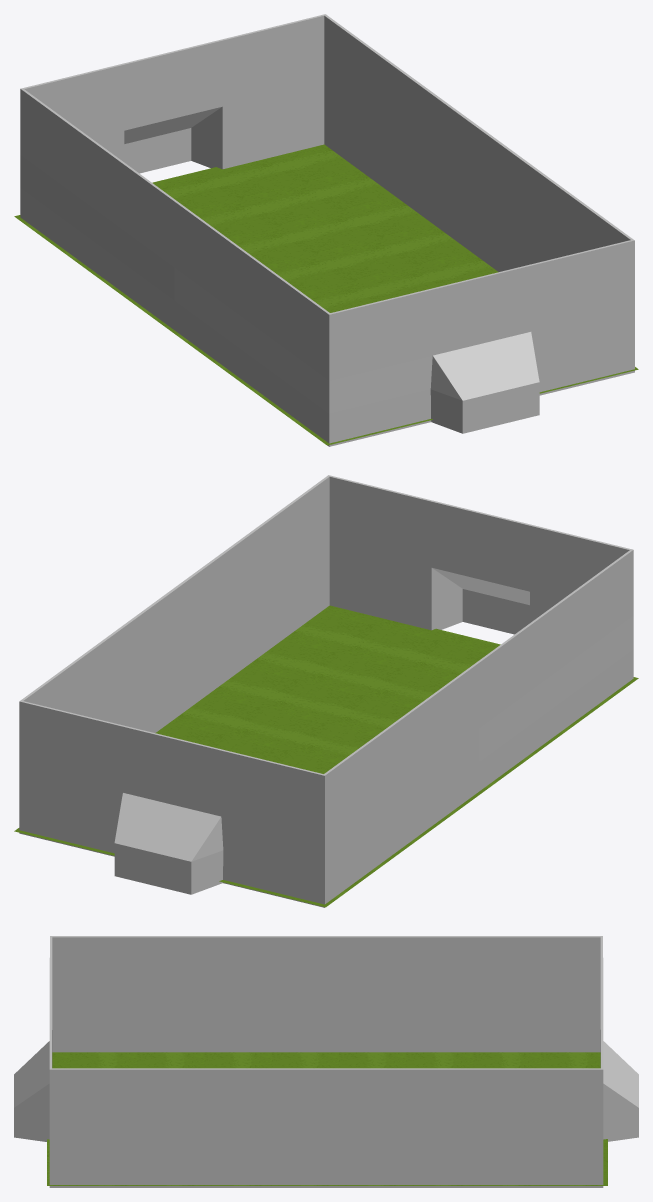
File: Voetbalkooi(1).fbx
The picture shows the model from 3 angles, top to bottom: view 1: azimuth 30°, elevation 25°; view 2: azimuth 150°, elevation 25°; view 3: azimuth 270°, elevation 25°; orthographic projection. The views are drawn at different scales.
Visible parts, largest first — view 1: Cube.030, Plane.009; view 2: Cube.030, Plane.009; view 3: Cube.030, Plane.009.
Part boxes in pixels (x1,y1,x2,y2): Cube.030: [20, 14, 634, 446]; Plane.009: [14, 144, 638, 445]; Cube.030: [19, 475, 633, 907]; Plane.009: [14, 605, 638, 907]; Cube.030: [14, 936, 638, 1187]; Plane.009: [47, 1052, 607, 1185].
Bounding box in the file's own units: 95.91 × 38.82 × 186.
